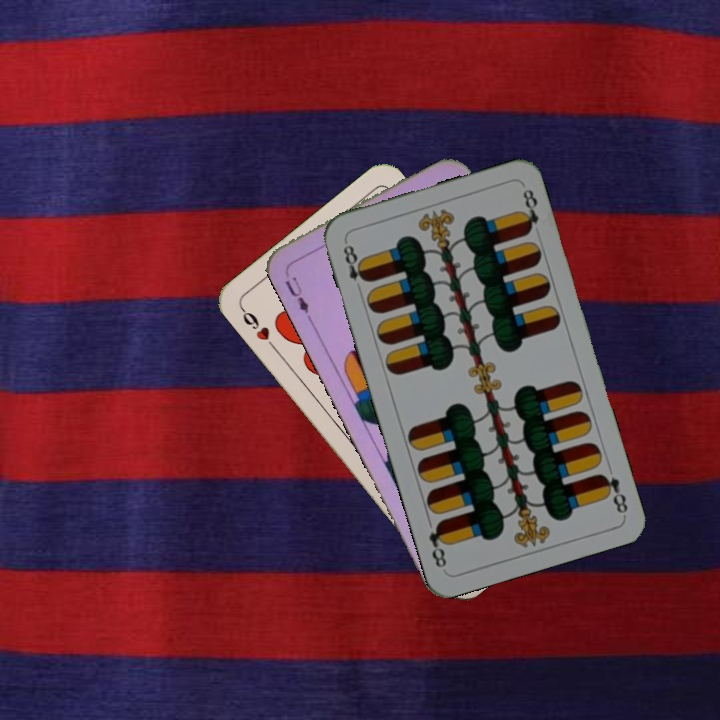E8: (339, 237, 371, 295), (595, 469, 631, 516)
EU: (280, 265, 313, 321)
H9: (236, 303, 279, 353)
